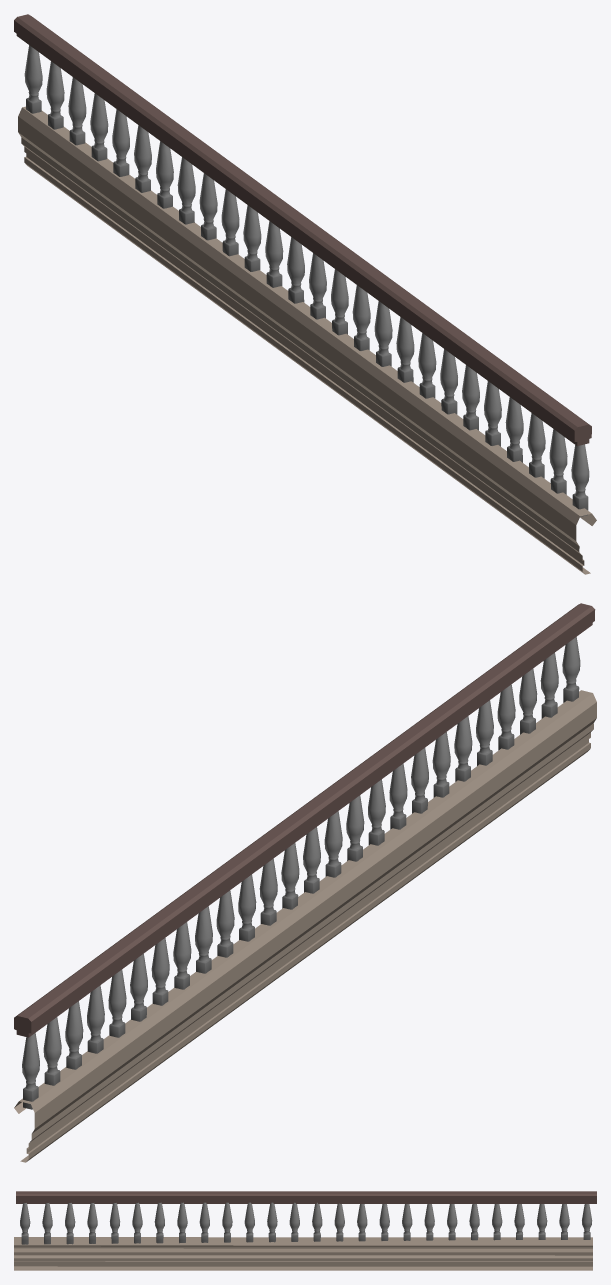
The model's file is StairsDouble5.fbx.
3 views of the same model, one above another, from view 1: azimuth 30°, elevation 25°; view 2: azimuth 150°, elevation 25°; view 3: azimuth 270°, elevation 25° (orthographic). The views are drawn at different scales.
Visible parts, largest first — view 1: StairsDouble.002; view 2: StairsDouble.002; view 3: StairsDouble.002.
Boxes of the visible parts, box(x1,y1,x2,y2) form: StairsDouble.002: box(14, 14, 596, 574); StairsDouble.002: box(14, 603, 596, 1162); StairsDouble.002: box(14, 1191, 596, 1270).
Bounding box in the file's own units: 0.2635 × 1.68 × 11.59.
